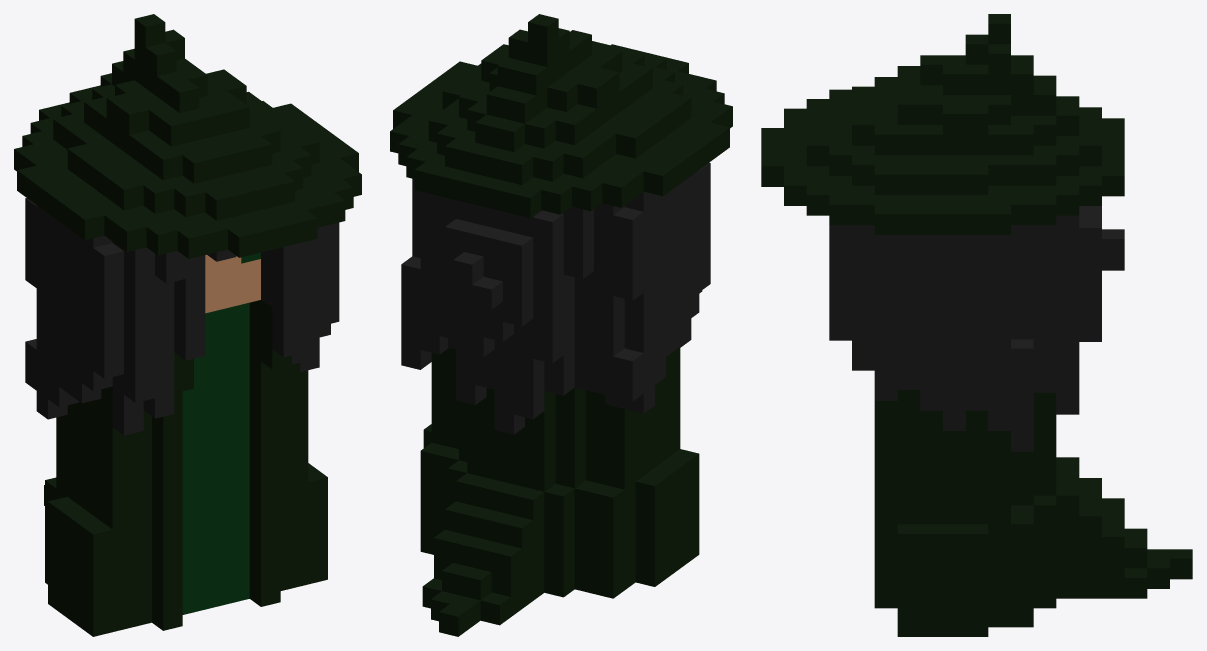
The model's file is Bruxa 03 - Idle-00.obj.
3 views of the same model, side by side, from view 1: azimuth 30°, elevation 25°; view 2: azimuth 150°, elevation 25°; view 3: azimuth 270°, elevation 25° (orthographic).
Bounding box in the file's own units: 14 × 27 × 19.
Materials: 1 (1 with a texture image).
